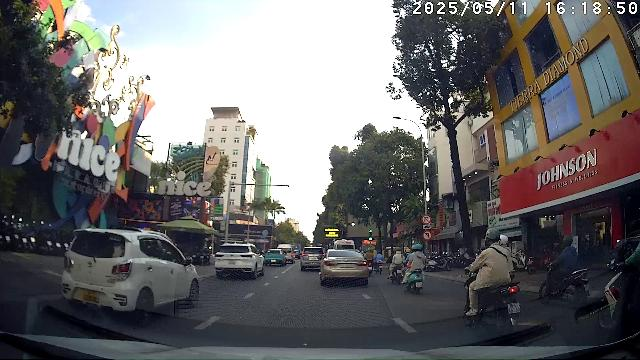123a-cam-re-trai: (422, 230, 433, 241)
123b-cam-re-phai: (421, 214, 432, 224)
